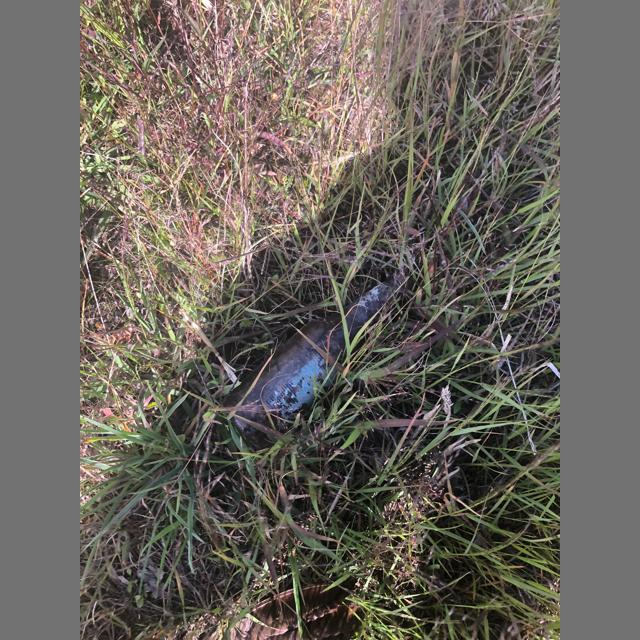litter: (215, 272, 407, 450)
